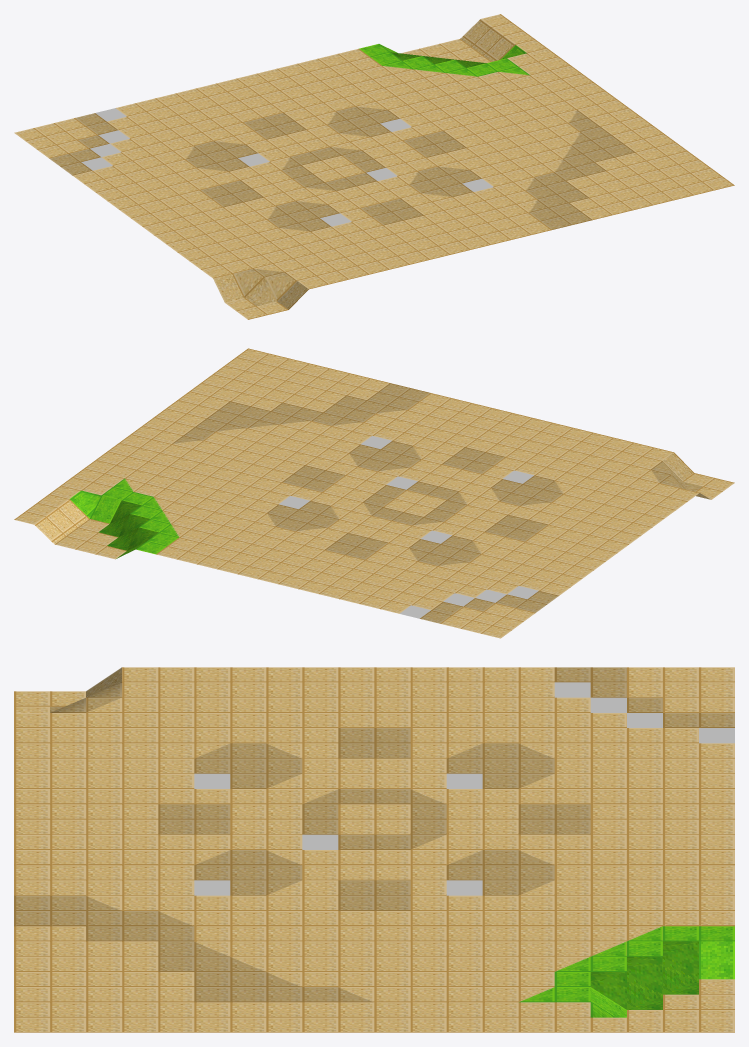
Rendered from FloorSide_8.obj.
3 views of the same model, one above another, from view 1: azimuth 30°, elevation 25°; view 2: azimuth 150°, elevation 25°; view 3: azimuth 270°, elevation 25° (orthographic). The views are drawn at different scales.
Parts seen in each view (by area): view 1: FloorSide_8; view 2: FloorSide_8; view 3: FloorSide_8.
Boxes of the visible parts, box(x1,y1,x2,y2) form: FloorSide_8: box(14, 14, 734, 319); FloorSide_8: box(14, 348, 734, 638); FloorSide_8: box(14, 667, 734, 1032).
Size of the model in its own units: 24 by 0.7379 by 20.
